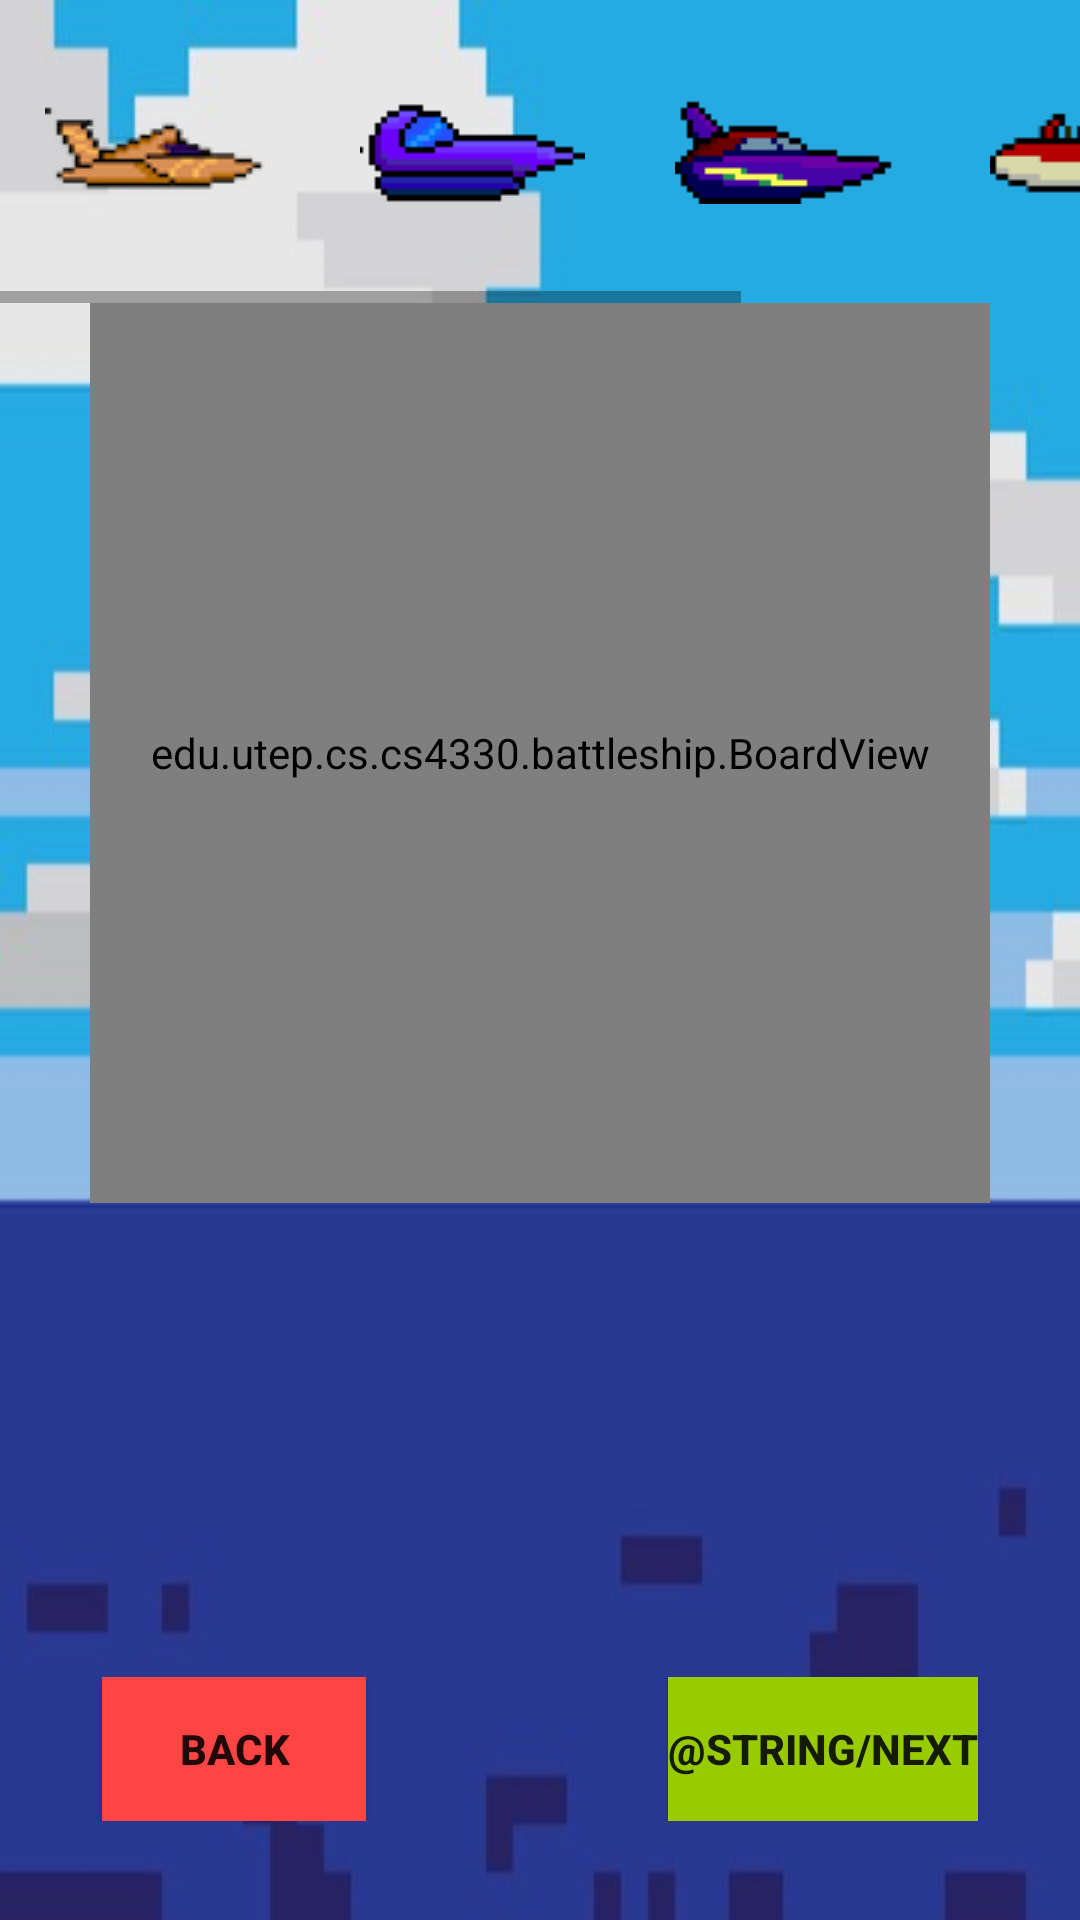

Named icons in this screenshot (1080 x 1920) and their bounding boxes, {"x1": x1, "y1": y1, "x2": x2, "y2": y2}:
Aircraft: {"x1": 45, "y1": 99, "x2": 262, "y2": 190}
Destroyer: {"x1": 675, "y1": 101, "x2": 892, "y2": 204}
